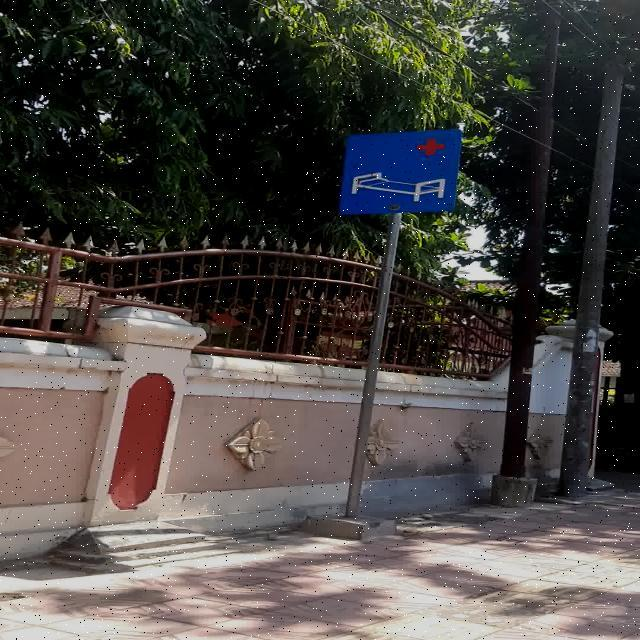Rumah Sakit: (339, 130, 461, 214)
